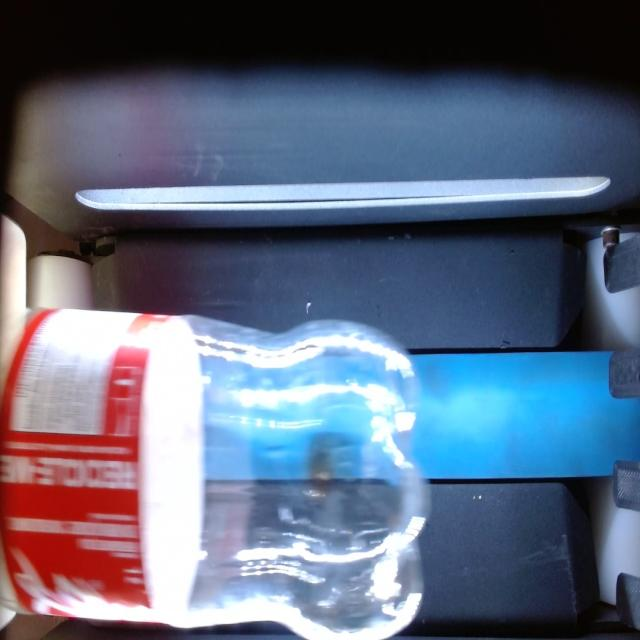bottom: (189, 318, 429, 638)
label: (0, 309, 204, 621)
